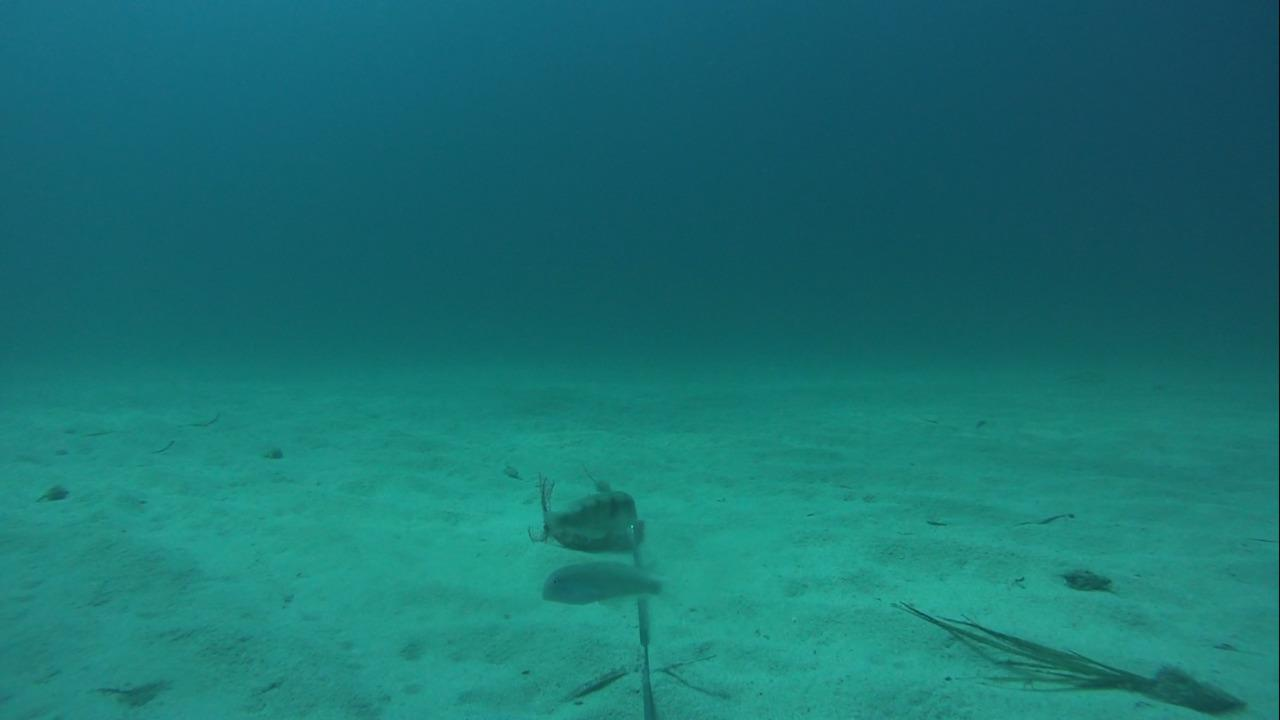raor: (537, 554, 676, 608), (536, 489, 649, 543)
